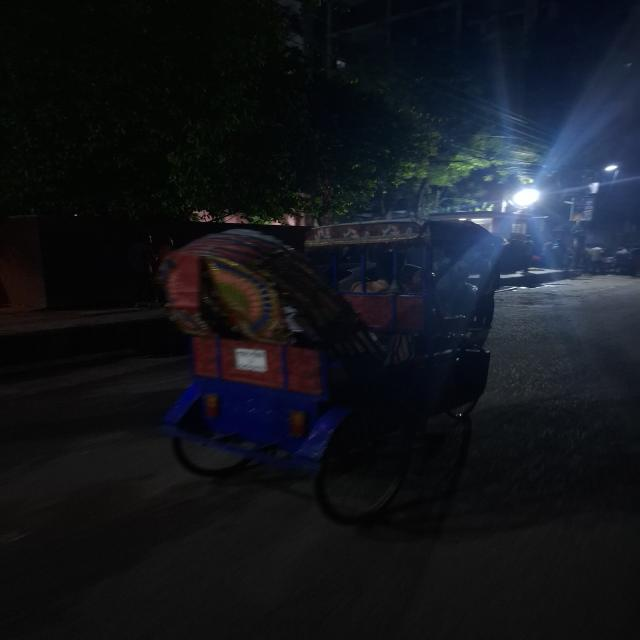rickshaw: (134, 214, 517, 540)
